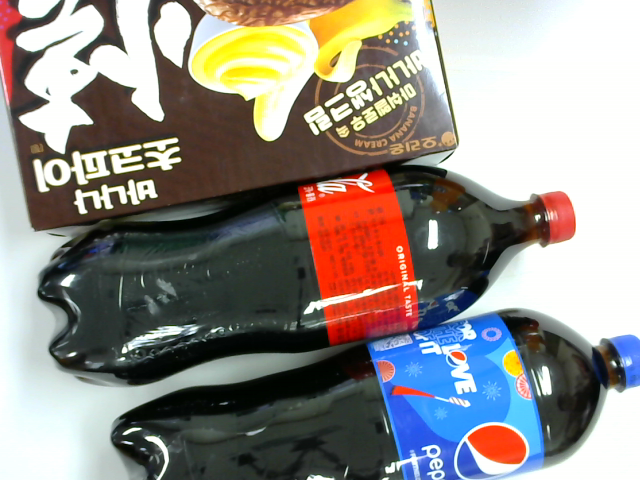Choco_Pie_Banana: (17, 1, 441, 178)
Coca_Cola_1.5L: (47, 164, 580, 372)
Pepsi_Cola_1.5L: (113, 314, 617, 480)
